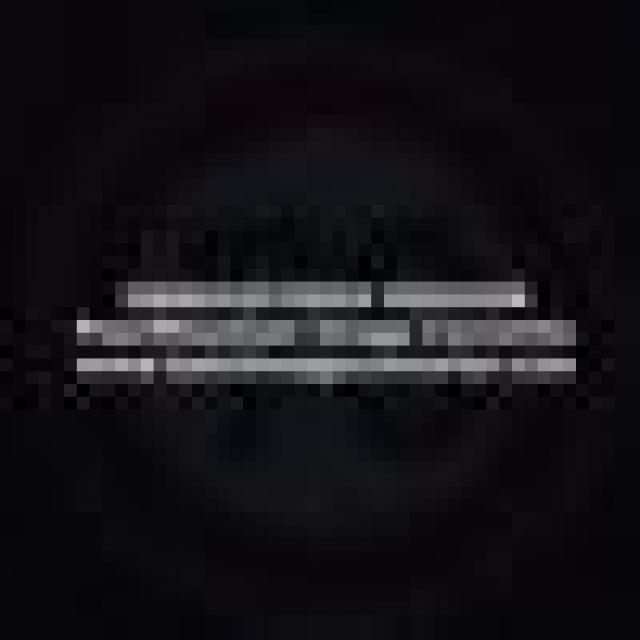SPEED_LIMIT_70: (64, 102, 589, 538)
